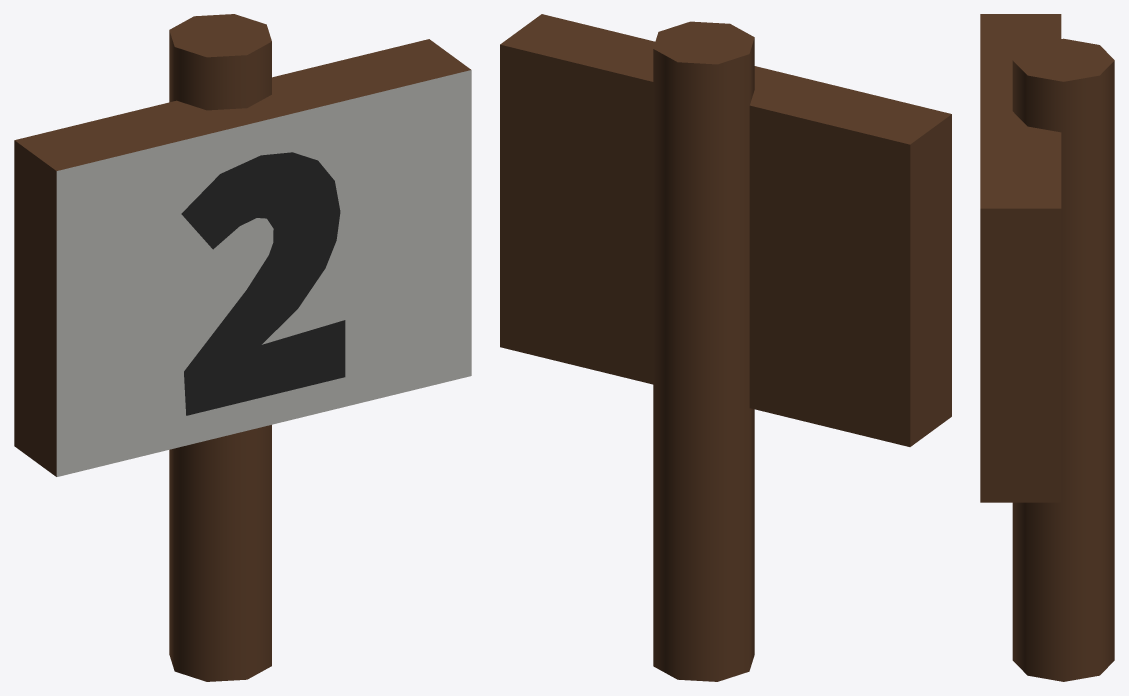
Rendered from plate_2.fbx.
3 renders of one model, left to right at view 1: azimuth 30°, elevation 25°; view 2: azimuth 150°, elevation 25°; view 3: azimuth 270°, elevation 25°, orthographic. The views are drawn at different scales.
Parts seen in each view (by area): view 1: plate_2; view 2: plate_2; view 3: plate_2.
Part boxes in pixels (bbox=[...]): plate_2: bbox=[14, 14, 471, 681]; plate_2: bbox=[500, 14, 951, 681]; plate_2: bbox=[980, 14, 1114, 681].
Size of the model in its own units: 118 by 169 by 34.44.
